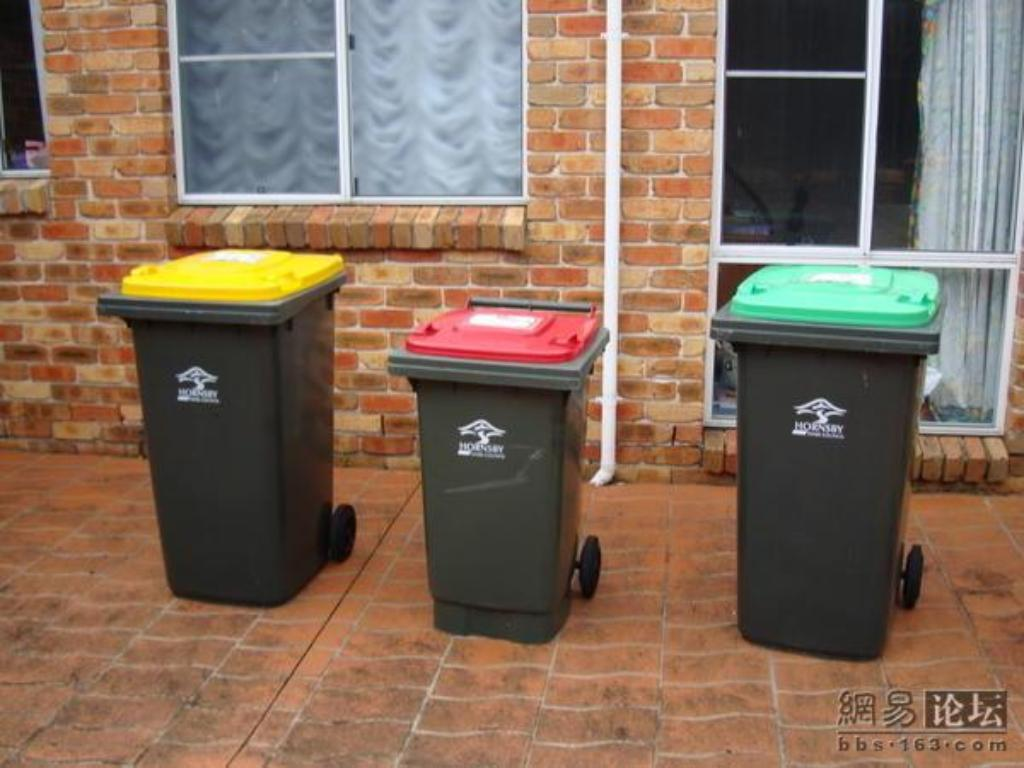dustbin: (714, 222, 986, 658), (108, 228, 374, 623), (385, 283, 629, 659)
